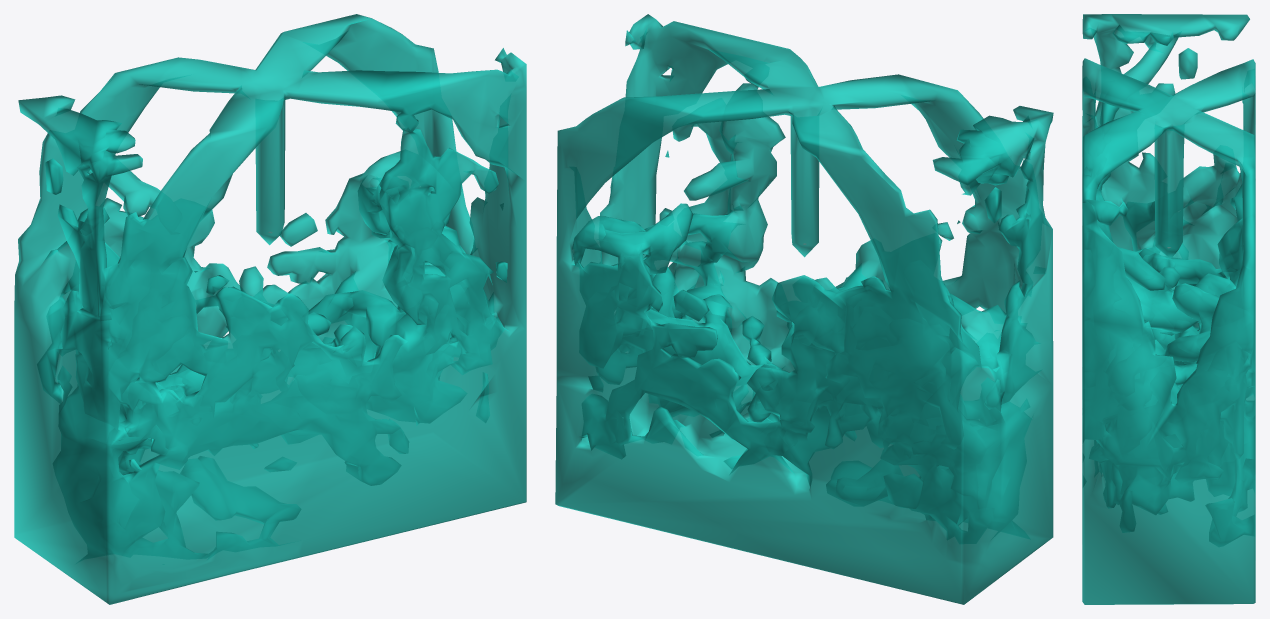
3 renders of one model, left to right at view 1: azimuth 30°, elevation 25°; view 2: azimuth 150°, elevation 25°; view 3: azimuth 270°, elevation 25°, orthographic. The views are drawn at different scales.
Parts seen in each view (by area): view 1: Liquid_Domain; view 2: Liquid_Domain; view 3: Liquid_Domain.
Part boxes in pixels (x1=…): Liquid_Domain: x1=14, y1=14, x2=526, y2=604; Liquid_Domain: x1=555, y1=14, x2=1053, y2=604; Liquid_Domain: x1=1082, y1=14, x2=1255, y2=604.
Size of the model in its own units: 884 by 885 by 344.
